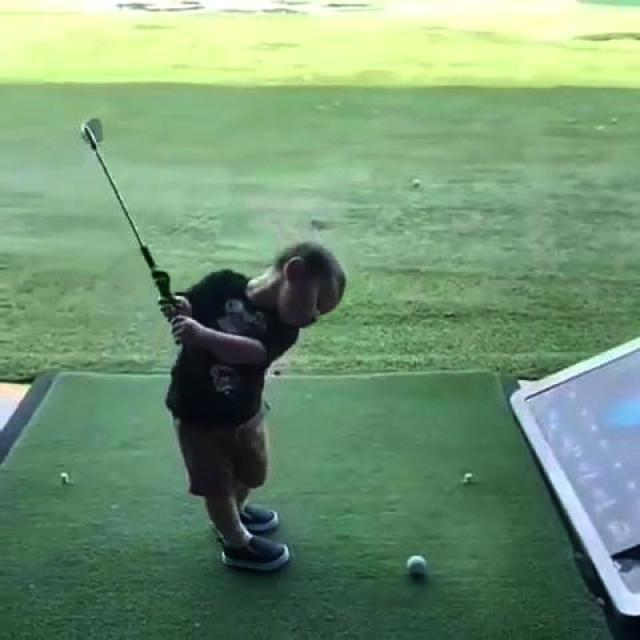ClubHandle: (81, 120, 172, 303)
ClubHead: (82, 120, 102, 144)
GolfBall: (407, 555, 427, 575)
